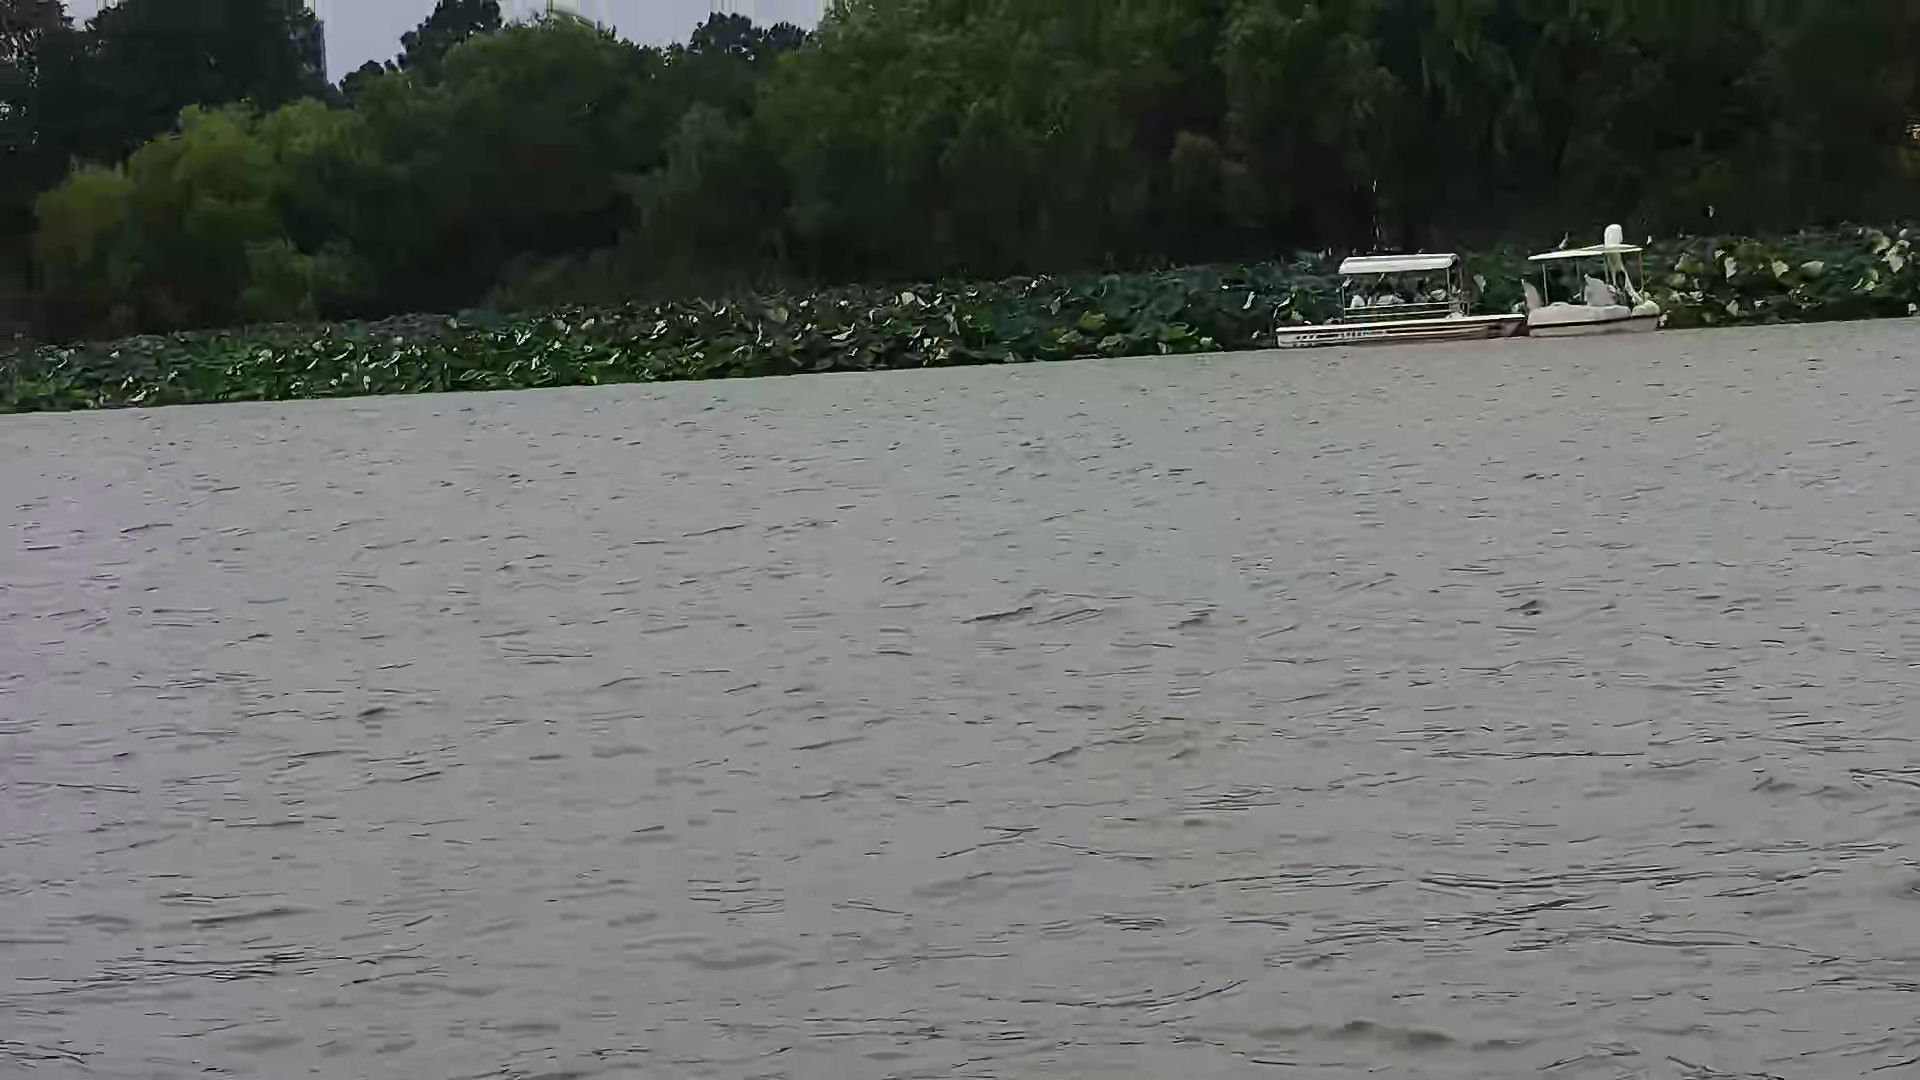boat: (1255, 245, 1520, 342), (1513, 215, 1665, 338)
